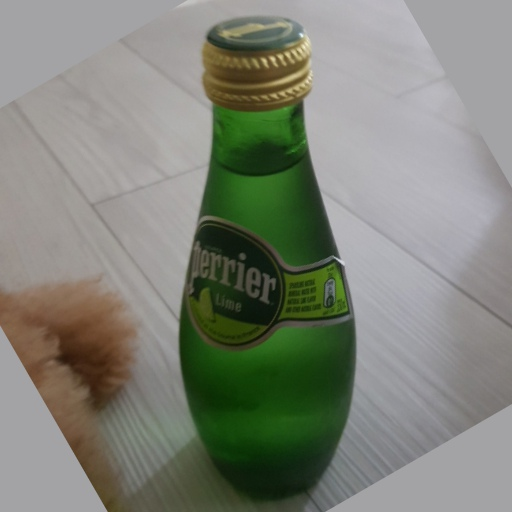Glass_4: (176, 14, 363, 498)
